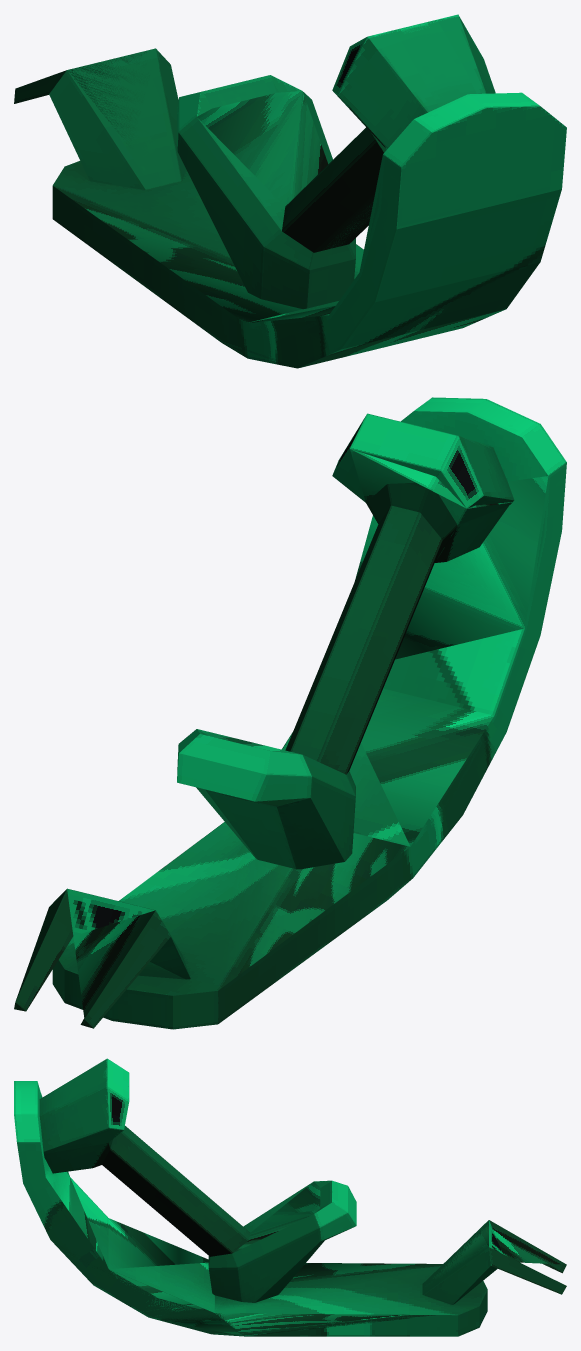
File: item_skishoe_2.glb
The picture shows the model from 3 angles, top to bottom: view 1: azimuth 30°, elevation 25°; view 2: azimuth 150°, elevation 25°; view 3: azimuth 270°, elevation 25°; orthographic projection. The views are drawn at different scales.
Visible parts, largest first — view 1: SkiShoe; view 2: SkiShoe; view 3: SkiShoe.
Part boxes in pixels (x1,y1,x2,y2): SkiShoe: (14, 14, 566, 368); SkiShoe: (14, 397, 566, 1029); SkiShoe: (14, 1058, 566, 1336).
Size of the model in its own units: 0.1051 by 0.2285 by 0.4804.
Materials: 1 (1 with a texture image).
